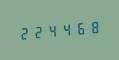eight: (88, 17, 101, 36)
four: (46, 21, 59, 40), (60, 19, 73, 38)
six: (74, 18, 87, 37)
two: (17, 23, 30, 42), (31, 22, 44, 41)
